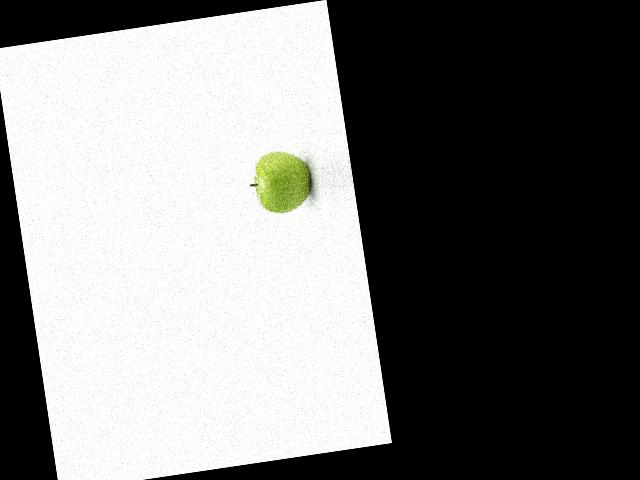apple: (245, 145, 317, 220)
